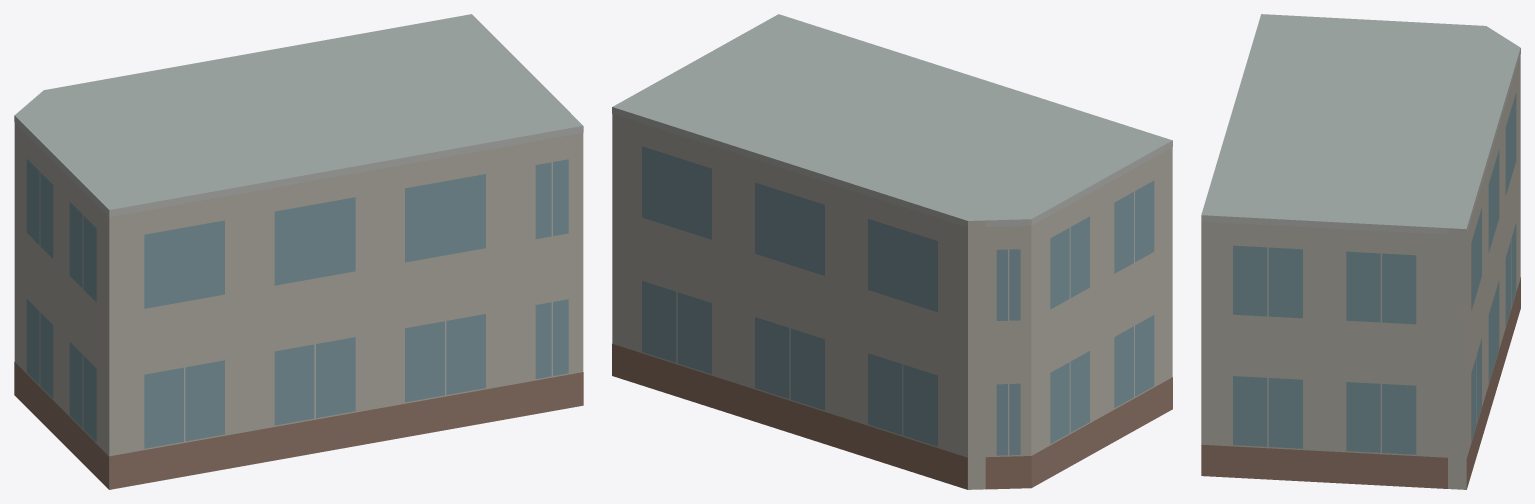
File: survey-upis-32894662.glb
3 views of the same model, side by side, from view 1: azimuth 30°, elevation 25°; view 2: azimuth 150°, elevation 25°; view 3: azimuth 270°, elevation 25° (orthographic). The views are drawn at different scales.
Visible parts, largest first — view 1: survey-upis-32894662.tmp; view 2: survey-upis-32894662.tmp; view 3: survey-upis-32894662.tmp.
Part boxes in pixels (box(x1,y1,x2,y2)): survey-upis-32894662.tmp: box(14, 14, 583, 489); survey-upis-32894662.tmp: box(612, 14, 1172, 489); survey-upis-32894662.tmp: box(1201, 14, 1520, 489).
Size of the model in its own units: 17.34 by 9.8 by 10.89.
